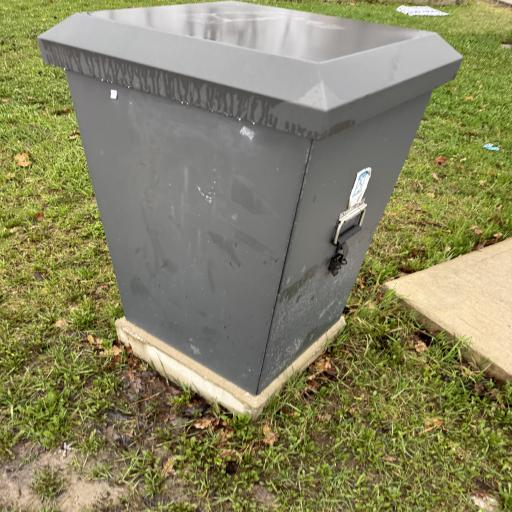Electrical Box: (42, 4, 466, 401)
